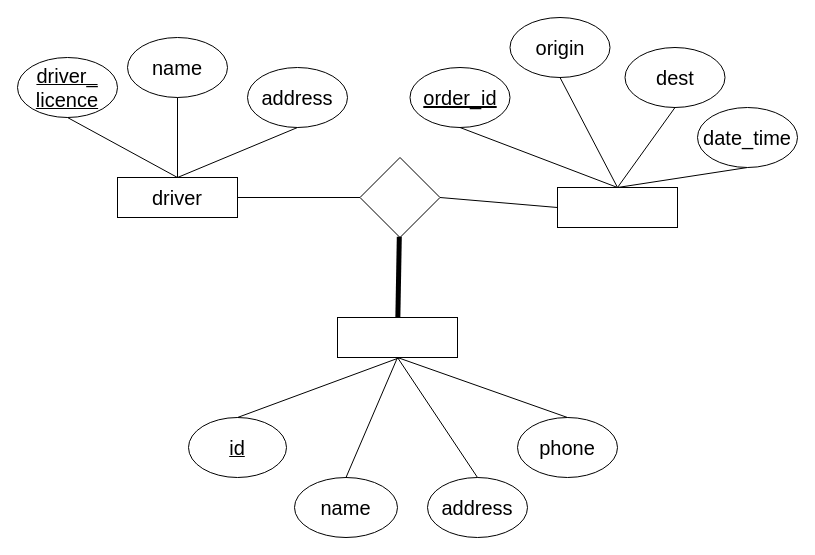
This 815x555 diagram has some shape labels left out. The shapes that lost their labels are listed below. From the top down, each one's centre as x and y in pixels, then its label:
At [399,197]: "rides".
At [617,207]: "orders".
At [397,337]: "clients".
